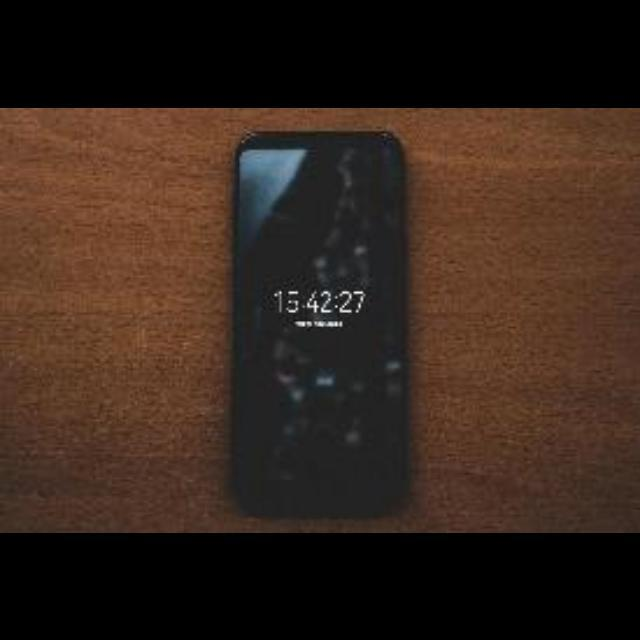PhoneUse: (233, 128, 409, 510)
